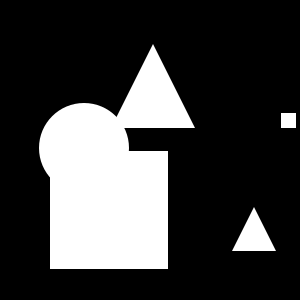circle: (50, 151, 168, 269), (281, 113, 296, 128)
rectangle: (39, 103, 129, 193)
triangle: (111, 44, 195, 128), (232, 207, 276, 251)
